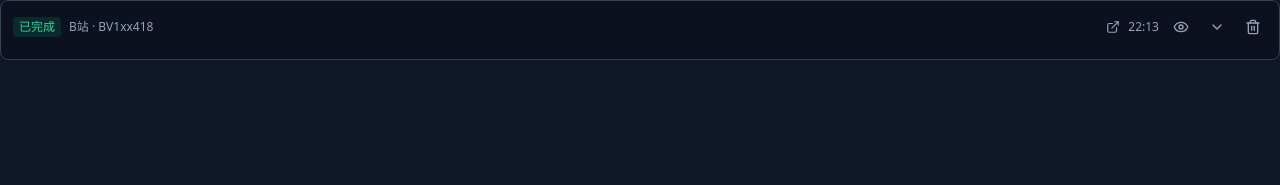
Test case: TaskRow 预览：字幕体为空
This screenshot has width=1280, height=185.
Click the button named "展开预览": (1217, 27) x1=1203 y1=13 x2=1231 y2=41
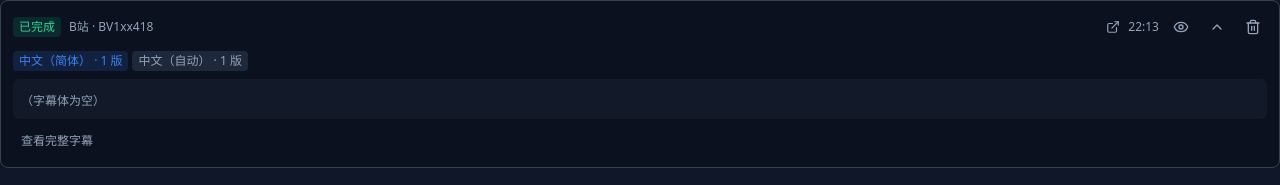
Result: the text "（字幕体为空）" is shown at x1=21 y1=92 x2=105 y2=109
